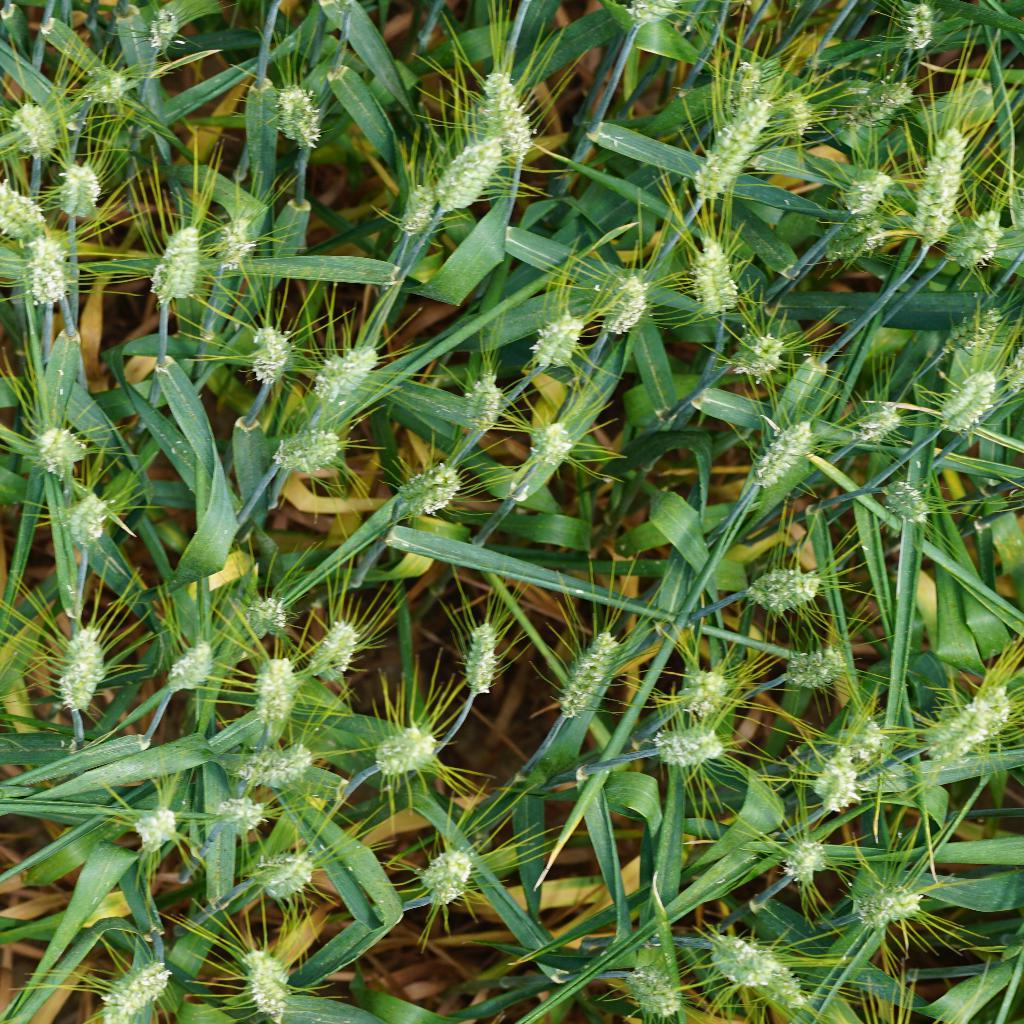0-0: (918, 679, 1005, 776), (146, 213, 215, 331), (697, 88, 766, 201), (44, 626, 116, 728), (548, 619, 617, 720), (475, 64, 544, 163), (444, 613, 508, 713), (838, 871, 933, 937), (919, 129, 970, 249), (512, 296, 589, 373), (423, 134, 499, 212), (97, 949, 176, 1024), (626, 713, 728, 770), (935, 365, 1004, 447), (935, 204, 1011, 275), (357, 725, 444, 787), (302, 342, 381, 410), (746, 413, 815, 490), (232, 946, 301, 1023), (238, 313, 305, 391), (301, 613, 367, 692), (418, 845, 482, 926), (19, 230, 79, 314), (694, 228, 746, 324), (699, 920, 770, 990), (602, 256, 657, 346), (393, 449, 463, 518), (736, 557, 819, 615), (159, 628, 224, 702), (892, 0, 957, 71), (273, 419, 344, 484), (662, 660, 746, 713), (23, 415, 92, 478), (245, 840, 316, 901), (58, 154, 104, 247), (62, 488, 116, 564), (769, 641, 844, 694), (773, 825, 836, 888), (773, 88, 837, 150), (841, 701, 907, 761), (455, 377, 514, 444), (216, 212, 268, 287), (201, 789, 280, 838), (10, 88, 63, 160), (828, 161, 897, 216), (938, 302, 997, 366), (0, 154, 47, 234), (825, 213, 897, 264), (874, 468, 934, 529), (520, 421, 590, 473), (236, 743, 316, 788), (628, 963, 687, 1024), (126, 802, 187, 861), (849, 68, 907, 130), (804, 754, 859, 819), (728, 318, 788, 377), (276, 82, 324, 152), (139, 0, 191, 62), (75, 53, 131, 109), (758, 961, 818, 1012), (256, 658, 296, 729), (243, 587, 291, 643), (397, 172, 437, 238), (632, 0, 699, 37), (859, 396, 901, 452)
